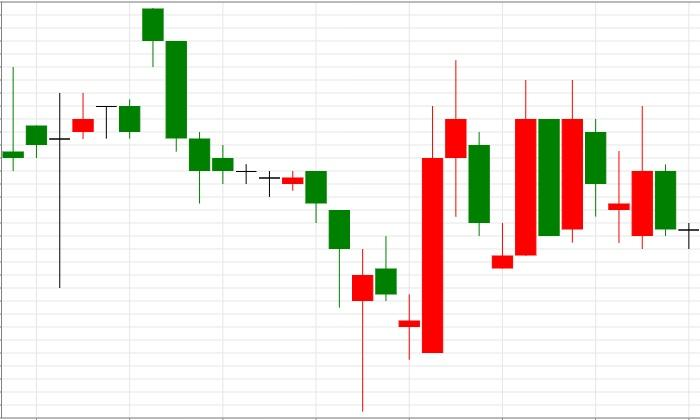hammer_rise: (142, 8, 350, 308)
